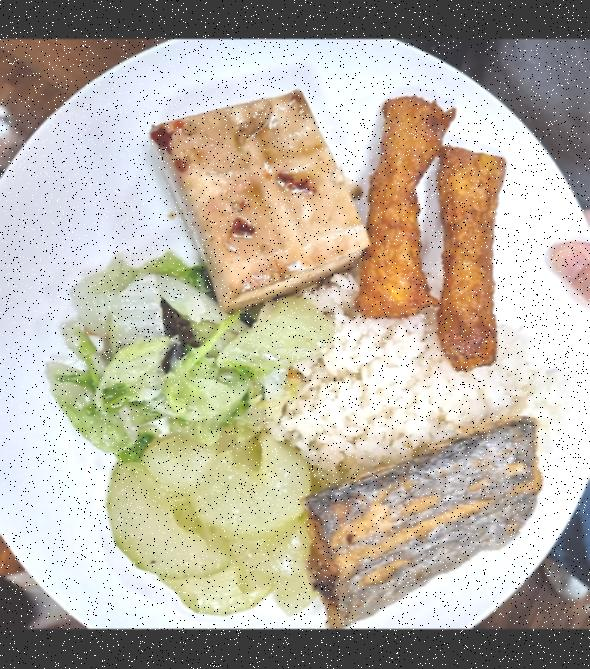pan fried fish fillet: (306, 412, 544, 628)
plate: (0, 39, 590, 629)
shrimp rolls: (354, 94, 512, 368)
side dish: (53, 259, 339, 460), (152, 82, 368, 310), (109, 427, 322, 618)
white rice: (286, 289, 574, 484)
